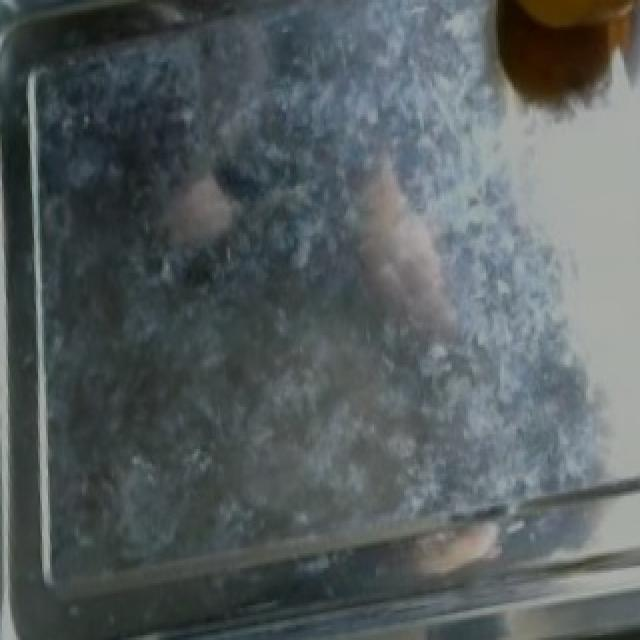Fruit: (472, 2, 640, 64)
